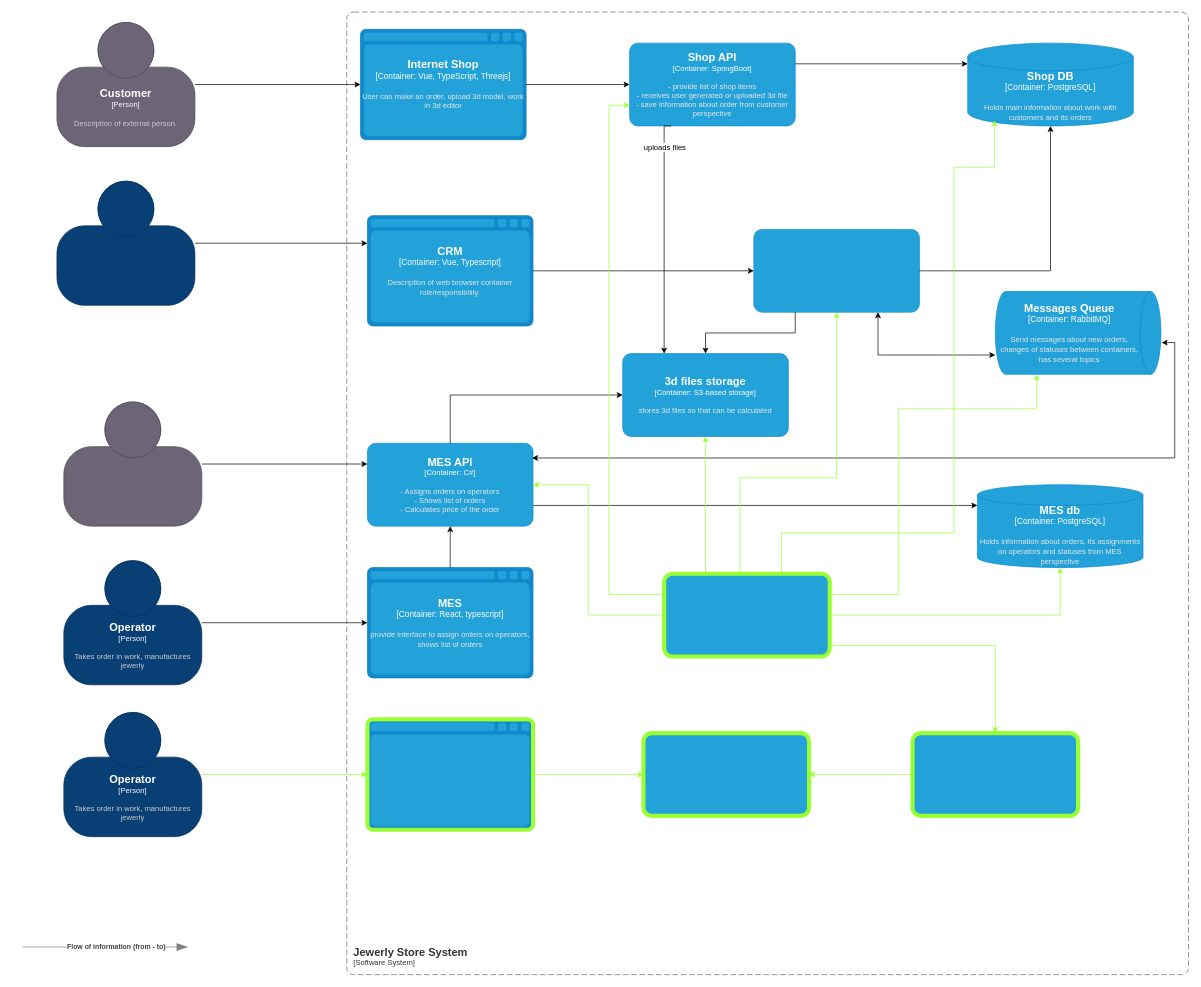
Image size: 1201x987. Some labels were removed from this diagram. Here are the shapes that lost their labels. From the top down, the centre of each, then its label:
the point at 125,242: Seller [Person] Operates with order, confirms manufacturing for the user
the point at 836,270: CRM API [Container: SpringBoot] Description of container role/responsibility.
the point at 132,463: API user [Person] Description of external person.
the point at 746,614: Filebit [Container: e.g. SpringBoot, ElasticSearch, etc.] Logs collection
the point at 450,774: Kibana [Container: React, typescript] - Logs view - Management
the point at 726,774: Elasitcsearch [Container: Logs processing & saving] - Logs storage - Seach API
the point at 995,774: Logstash [Container: Logs processing & saving] Logs collection
